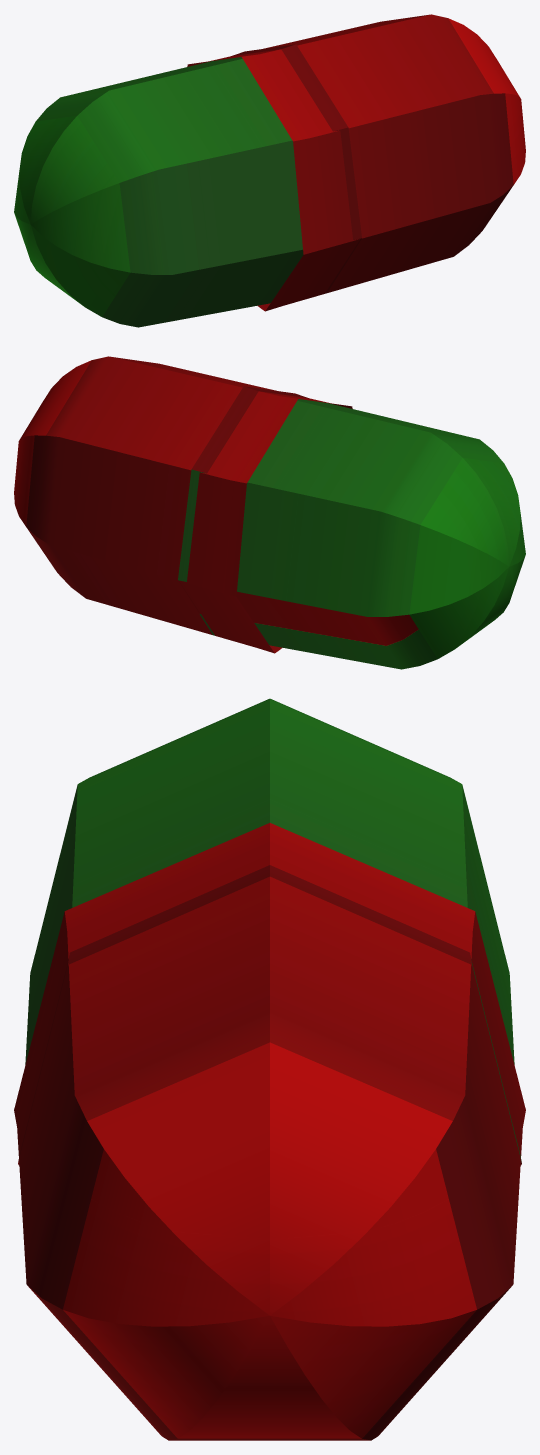
The model's file is pildoracontextura.fbx.
The picture shows the model from 3 angles, top to bottom: view 1: azimuth 30°, elevation 25°; view 2: azimuth 150°, elevation 25°; view 3: azimuth 270°, elevation 25°; orthographic projection. The views are drawn at different scales.
Parts seen in each view (by area): view 1: pSphere5; view 2: pSphere5; view 3: pSphere5.
Part boxes in pixels (x1,y1,x2,y2): pSphere5: (14, 14, 525, 327); pSphere5: (14, 356, 525, 669); pSphere5: (14, 698, 525, 1440).
Bounding box in the file's own units: 0.3226 × 0.1495 × 0.1534.
1 material, 1 textured.
